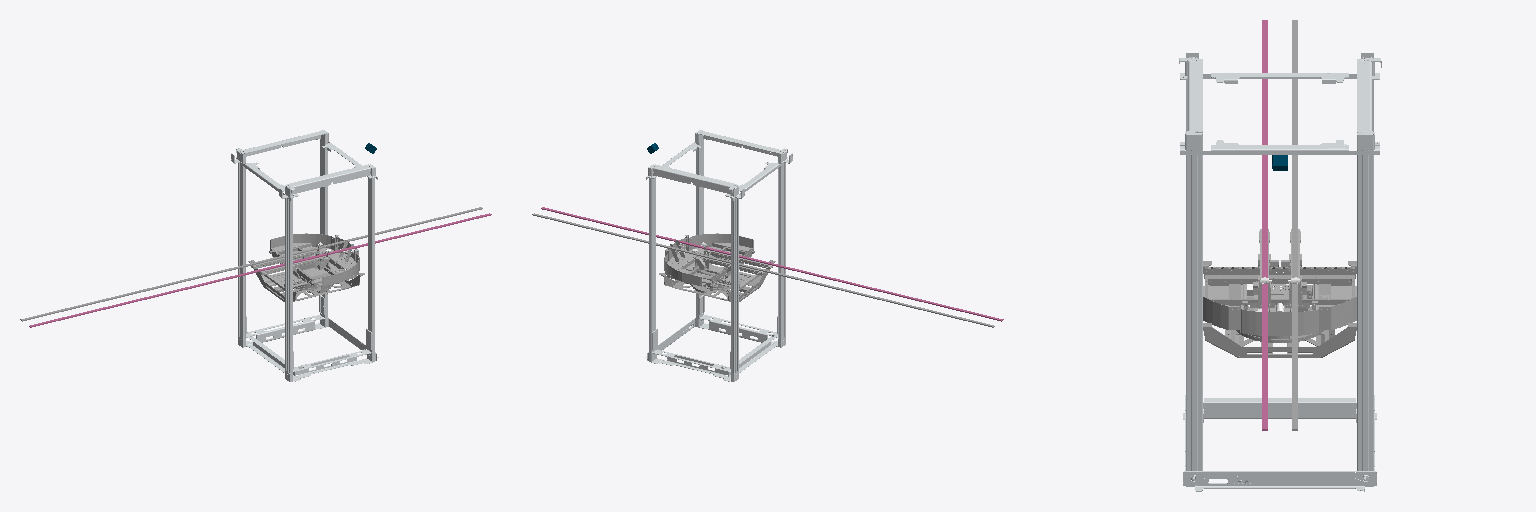
The robot description file, URDF, robot "soto_2_1":
<robot name="soto_2_1">
	<link name="base_footprint"/>
	<joint name="base_to_manipulator_base" type="fixed">
		<origin rpy="0 0 0" xyz="0.33418 0 0.0" />
		<parent link="base_footprint" />
		<child link="manipulator_base_link" />
	</joint>
	<link name="manipulator_base_link">
		<inertial>
		<origin rpy="0 0 0" xyz="0.0083951 0.00056472 0.83616" />
		<mass value="133" />
		<inertia ixx="233.82" ixy="1.4667" ixz="-2.4067" iyy="235.13" iyz="-1.5083" izz="48.653" />
		</inertial>
		<visual>
		<geometry>
			<mesh filename="package://soto_vertical_axis_2_1_description/meshes/manipulator_base_link.STL" />
		</geometry>
		<material name="">
			<color rgba="0.89804 0.91765 0.92941 1" />
		</material>
		</visual>
		<!-- <collision>
		<geometry>
			<mesh filename="package://soto_vertical_axis_2_1_description/meshes/manipulator_base_link_col.STL" />
		</geometry>
		</collision> -->
	</link>
	<link name="vertical_axis_link">
		<inertial>
		<origin rpy="0 0 0" xyz="-0.017005 -0.012942 0.048502" />
		<mass value="36.13" />
		<inertia ixx="1.196522" ixy="0.120705" ixz="-0.048934" iyy="1.700861" iyz="-0.036322" izz="2.566171" />
		</inertial>
		<visual>
		<geometry>
			<mesh filename="package://soto_vertical_axis_2_1_description/meshes/vertical_axis_link.STL" />
		</geometry>
		<material name="">
			<color rgba="0.69804 0.69804 0.69804 1" />
		</material>
		</visual>
		<collision>
		<geometry>
			<mesh filename="package://soto_vertical_axis_2_1_description/meshes/vertical_axis_link_col.STL" />
		</geometry>
		</collision>
	</link>
	<joint name="vertical_axis" type="prismatic">
		<origin rpy="0 0 0" xyz="0 0 -0.47283" />
		<parent link="manipulator_base_link" />
		<child link="vertical_axis_link" />
		<axis xyz="0 0 1" />
		<dynamics damping="4000.0" friction="0.0" />
		<limit effort="1650.32" lower="0.385" upper="1.91" velocity="0.45" />
	</joint>
	<link name="nav_depth_camera_front_link">
		<inertial>
		<origin rpy="0 0 0" xyz="-0.025274 0.00013854 -0.023398" />
		<mass value="1.0" />
		<inertia ixx="0.00081667" ixy="0" ixz="0" iyy="0.00094167" iyz="0" izz="0.00094167" />
		</inertial>
		<visual>
		<geometry>
			<mesh filename="package://soto_vertical_axis_2_1_description/meshes/nav_depth_camera_front_link.STL" />
		</geometry>
		<material name="">
			<color rgba="0 0.292 0.403 1" />
		</material>
		</visual>
		<collision>
		<origin rpy="0 0 0" xyz="0.0125 -0.01475 -0.035" />
		<geometry>
			<box size="0.08 0.07 0.07" />
		</geometry>
		</collision>
	</link>
	<joint name="nav_depth_camera_front" type="fixed">
		<origin rpy="-2.3213 0.0 -1.5708" xyz="0.70999 0.0135 1.92162" />
		<parent link="manipulator_base_link" />
		<child link="nav_depth_camera_front_link" />
	</joint>
	<link name="blue_spot_front_link" />
	<joint name="blue_spot_front" type="fixed">
		<origin rpy="0 2.3213 0" xyz="0.70999 0.117 1.92162" />
		<parent link="manipulator_base_link" />
		<child link="blue_spot_front_link" />
	</joint>
	<link name="gripper_base_link">
		<inertial>
		<origin rpy="0 0 0" xyz="0 -0.003906 0.071229" />
		<mass value="22.11" />
		<inertia ixx="1.434512" ixy="0.01329" ixz="-0.275856" iyy="1.610174" iyz="-0.0066" izz="2.705717" />
		</inertial>
		<visual>
		<geometry>
			<mesh filename="package://soto_conveyor_gripper_1_2_description/meshes/gripper_base_link.STL" />
		</geometry>
		<material name="">
			<color rgba="0.75294 0.75294 0.75294 1" />
		</material>
		</visual>
		<collision>
		<geometry>
			<mesh filename="package://soto_conveyor_gripper_1_2_description/meshes/gripper_base_link_col.STL" />
		</geometry>
		</collision>
	</link>
	<joint name="gripper_rotate" type="fixed">
		<origin rpy="0 0 3.1416" xyz="0 0 0.1205" />
		<parent link="vertical_axis_link" />
		<child link="gripper_base_link" />
		
	</joint>
	<link name="gripper_base_x_link">
		<inertial>
		<origin rpy="0 0 0" xyz="-0.10693 -0.020943 0.010393" />
		<mass value="8.27" />
		<inertia ixx="0.439749" ixy="0.029672" ixz="-0.0008" iyy="0.203588" iyz="0.00403" izz="0.632283" />
		</inertial>
		<visual>
		<geometry>
			<mesh filename="package://soto_conveyor_gripper_1_2_description/meshes/gripper_base_x_link.STL" />
		</geometry>
		<material name="">
			<color rgba="0.69804 0.69804 0.69804 1" />
		</material>
		</visual>
		<collision>
		<geometry>
			<mesh filename="package://soto_conveyor_gripper_1_2_description/meshes/gripper_base_x_link_col.STL" />
		</geometry>
		</collision>
	</link>
	<joint name="gripper_base_x" type="prismatic">
		<origin rpy="0 0 0" xyz="0 0 0.08655" />
		<parent link="gripper_base_link" />
		<child link="gripper_base_x_link" />
		<axis xyz="1 0 0" />
		<dynamics damping="200.0" friction="10.0" />
		<limit effort="140.16" lower="0.002" upper="0.328" velocity="0.145711" />
	</joint>
	<link name="gripper_y_right_link">
		<inertial>
		<origin rpy="0 0 0" xyz="0.31885 0.0033569 -0.031557" />
		<mass value="4.7" />
		<inertia ixx="0.017352" ixy="-0.011281" ixz="-0.039727" iyy="0.535979" iyz="0.000597" izz="0.530221" />
		</inertial>
		<visual>
		<geometry>
			<mesh filename="package://soto_conveyor_gripper_1_2_description/meshes/gripper_y_right_link_with_belt.STL" />
		</geometry>
		<material name="">
			<color rgba="0.75294 0.75294 0.75294 1" />
		</material>
		</visual>
		<!-- <collision>
		<geometry>
			<mesh filename="package://soto_conveyor_gripper_1_2_description/meshes/gripper_y_right_link_with_belt_col.STL" />
		</geometry>
		</collision> -->
	</link>
	<joint name="gripper_y_right" type="prismatic">
		<origin rpy="0 0 0" xyz="-0.337 -0.325 0.12155" />
		<parent link="gripper_base_x_link" />
		<child link="gripper_y_right_link" />
		<axis xyz="0 1 0" />
		<dynamics damping="300.0" friction="80.0" />
		<limit effort="140.16" lower="0.002" upper="0.489" velocity="0.261799" />
	</joint>
	<link name="distance_sensor_conveyor_right">
		<inertial>
		<origin rpy="0 0 0" xyz="-0.026935 0 -0.00089453" />
		<mass value="0.035209" />
		<inertia ixx="7.5071E-06" ixy="-4.8531E-10" ixz="-1.4593E-07" iyy="1.0074E-05" iyz="6.5654E-10" izz="5.2155E-06" />
		</inertial>
		<visual>
		<geometry>
			<mesh filename="package://soto_conveyor_gripper_1_2_description/meshes/distance_sensor.STL" />
		</geometry>
		<material name="">
			<color rgba="1 1 1 1" />
		</material>
		</visual>
		<collision>
		<origin rpy="0 0 0" xyz="-0.029073 0 0" />
		<geometry>
			<box size="0.0308 0.0225 0.049" />
		</geometry>
		</collision>
	</link>
	<joint name="gripper_y_right_to_distance_sensor" type="fixed">
		<origin rpy="1.5708 0 0" xyz="0.00723 0 0.0425" />
		<parent link="gripper_y_right_link" />
		<child link="distance_sensor_conveyor_right" />
	</joint>
	<link name="gripper_y_left_link">
		<inertial>
		<origin rpy="0 0 0" xyz="0.31885 -0.0033569 -0.031557" />
		<mass value="4.7" />
		<inertia ixx="0.017352" ixy="0.011281" ixz="-0.039727" iyy="0.535979" iyz="-0.000597" izz="0.530221" />
		</inertial>
		<visual>
		<geometry>
			<mesh filename="package://soto_conveyor_gripper_1_2_description/meshes/gripper_y_left_link_with_belt.STL" />
		</geometry>
		<material name="">
			<color rgba="0.75294 0.75294 0.75294 1" />
		</material>
		</visual>
		<!-- <collision>
		<geometry>
			<mesh filename="package://soto_conveyor_gripper_1_2_description/meshes/gripper_y_left_link_with_belt_col.STL" />
		</geometry>
		</collision> -->
	</link>
	<joint name="gripper_y_left" type="prismatic">
		<origin rpy="0 0 0" xyz="-0.337 0.325 0.12155" />
		<parent link="gripper_base_x_link" />
		<child link="gripper_y_left_link" />
		<axis xyz="0 -1 0" />
		<dynamics damping="300.0" friction="80.0" />
		<limit effort="140.16" lower="0.002" upper="0.489" velocity="0.261799" />
	</joint>
	<link name="distance_sensor_conveyor_left">
		<inertial>
		<origin rpy="0 0 0" xyz="-0.026935 0 -0.00089453" />
		<mass value="0.035209" />
		<inertia ixx="7.5071E-06" ixy="-4.8531E-10" ixz="-1.4593E-07" iyy="1.0074E-05" iyz="6.5654E-10" izz="5.2155E-06" />
		</inertial>
		<visual>
		<geometry>
			<mesh filename="package://soto_conveyor_gripper_1_2_description/meshes/distance_sensor.STL" />
		</geometry>
		<material name="">
			<color rgba="1 1 1 1" />
		</material>
		</visual>
		<collision>
		<origin rpy="0 0 0" xyz="-0.029073 0 0" />
		<geometry>
			<box size="0.0308 0.0225 0.049" />
		</geometry>
		</collision>
	</link>
	<joint name="gripper_y_left_to_distance_sensor" type="fixed">
		<origin rpy="-1.5708 0 0" xyz="0.00723 0 0.0425" />
		<parent link="gripper_y_left_link" />
		<child link="distance_sensor_conveyor_left" />
	</joint>
	<link name="conveyor_belt_right_link">
		
		<inertial>
		<origin xyz="0 0 0" />
		<mass value="0.5" />
		<inertia ixx="0.0008333333333333335" ixy="0" ixz="0" iyy="0.0008333333333333335" iyz="0" izz="0.0008333333333333335" />
		</inertial>
	</link>
	<joint name="conveyor_belt_right" type="prismatic">
		<origin rpy="0 0 0" xyz="0.68001 0 -0.0182" />
		<parent link="gripper_y_right_link" />
		<child link="conveyor_belt_right_link" />
		<axis xyz="-1 0 0" />
		<limit effort="55.4465" lower="-9999999999" upper="9999999999" velocity="0.247126" />
	</joint>
	<link name="conveyor_belt_right_surface_foremost_link">
		
		<inertial>
		<origin xyz="0 0 0" />
		<mass value="0.01" />
		<inertia ixx="1.666666666666667e-05" ixy="0" ixz="0" iyy="1.666666666666667e-05" iyz="0" izz="1.666666666666667e-05" />
		</inertial>
	</link>
	<joint name="conveyor_belt_right_to_surface_foremost" type="fixed">
		<origin rpy="0 0 0" xyz="0.7050115 0 0" />
		<parent link="gripper_y_right_link" />
		<child link="conveyor_belt_right_surface_foremost_link" />
	</joint>
	<link name="conveyor_belt_right_foremost_link" />
	<joint name="conveyor_belt_right_surface_to_foremost" type="fixed">
		<origin rpy="0 0 0" xyz="0.0182 0 0" />
		<parent link="conveyor_belt_right_surface_foremost_link" />
		<child link="conveyor_belt_right_foremost_link" />
	</joint>
	<link name="conveyor_belt_left_link">
		
		<inertial>
		<origin xyz="0 0 0" />
		<mass value="0.5" />
		<inertia ixx="0.0008333333333333335" ixy="0" ixz="0" iyy="0.0008333333333333335" iyz="0" izz="0.0008333333333333335" />
		</inertial>
	</link>
	<joint name="conveyor_belt_left" type="prismatic">
		<origin rpy="0 0 0" xyz="0.68001 0 -0.0182" />
		<parent link="gripper_y_left_link" />
		<child link="conveyor_belt_left_link" />
		<axis xyz="-1 0 0" />
		<limit effort="55.4465" lower="-9999999999" upper="9999999999" velocity="0.247126" />
	</joint>
	<link name="conveyor_belt_left_surface_foremost_link">
		
		<inertial>
		<origin xyz="0 0 0" />
		<mass value="0.01" />
		<inertia ixx="1.666666666666667e-05" ixy="0" ixz="0" iyy="1.666666666666667e-05" iyz="0" izz="1.666666666666667e-05" />
		</inertial>
	</link>
	<joint name="conveyor_belt_left_to_surface_foremost" type="fixed">
		<origin rpy="0 0 0" xyz="0.7050115 0 0" />
		<parent link="gripper_y_left_link" />
		<child link="conveyor_belt_left_surface_foremost_link" />
	</joint>
	<link name="conveyor_belt_left_foremost_link" />
	<joint name="conveyor_belt_left_surface_to_foremost" type="fixed">
		<origin rpy="0 0 0" xyz="0.0182 0 0" />
		<parent link="conveyor_belt_left_surface_foremost_link" />
		<child link="conveyor_belt_left_foremost_link" />
	</joint>
	<link name="gripper_barcode_camera">
		<inertial>
		<origin rpy="0 0 0" xyz="-0.399914 0 0.166337" />
		<mass value="0.3" />
		<inertia ixx="0.008384" ixy="0" ixz="-0.01991" iyy="0.056698" iyz="0" izz="0.048367" />
		</inertial>
		<visual>
		<geometry>
			<mesh filename="package://soto_conveyor_gripper_1_2_description/meshes/gripper_barcode_camera.STL" />
		</geometry>
		<material name="">
			<color rgba="1 1 1 1" />
		</material>
		</visual>
	</link>
	<joint name="gripper_barcode_camera" type="fixed">
		<origin rpy="-1.309 0.0 -1.5708" xyz="-0.4078 0.0 0.16419" />
		<parent link="gripper_base_link" />
		<child link="gripper_barcode_camera" />
	</joint>
	<link name="reflective_sensor_gripper">
		<inertial>
		<origin rpy="0 0 0" xyz="-0.010172 6.0056E-07 0.00078646" />
		<mass value="0.02" />
		<inertia ixx="1.0016E-06" ixy="-7.2534E-12" ixz="1.4276E-09" iyy="1.1697E-06" iyz="1.4704E-10" izz="4.3881E-07" />
		</inertial>
		<visual>
		<geometry>
			<mesh filename="package://soto_conveyor_gripper_1_2_description/meshes/reflective_sensor.STL" />
		</geometry>
		<material name="">
			<color rgba="1 1 1 1" />
		</material>
		</visual>
		<collision>
		<origin rpy="0 0 0" xyz="-0.01 0 0.0015" />
		<geometry>
			<box size="0.02 0.0136 0.032" />
		</geometry>
		</collision>
	</link>
	<joint name="gripper_base_to_reflective_sensor" type="fixed">
		<origin rpy="1.5708 0 -0.058124" xyz="-0.44819 0.096981 0.16975" />
		<parent link="gripper_base_link" />
		<child link="reflective_sensor_gripper" />
	</joint>
	<link name="distance_sensor_gripper">
		<inertial>
		<origin rpy="0 0 0" xyz="-0.026935 0 -0.00089453" />
		<mass value="0.035209" />
		<inertia ixx="7.5071E-06" ixy="-4.8531E-10" ixz="-1.4593E-07" iyy="1.0074E-05" iyz="6.5654E-10" izz="5.2155E-06" />
		</inertial>
		<visual>
		<geometry>
			<mesh filename="package://soto_conveyor_gripper_1_2_description/meshes/distance_sensor.STL" />
		</geometry>
		<material name="">
			<color rgba="1 1 1 1" />
		</material>
		</visual>
		<collision>
		<origin rpy="0 0 0" xyz="-0.029073 0 0" />
		<geometry>
			<box size="0.0308 0.0225 0.049" />
		</geometry>
		</collision>
	</link>
	<joint name="gripper_base_to_distance_sensor" type="fixed">
		<origin rpy="1.5708 0 -0.058124" xyz="-0.42364 0.093946 0.1908" />
		<parent link="gripper_base_link" />
		<child link="distance_sensor_gripper" />
	</joint>
	<link name="gripper_surface_tip_link" />
	<joint name="gripper_base_x_to_surface_tip" type="fixed">
		<origin rpy="0 0 0" xyz="0.3862115 0 0.12155" />
		<parent link="gripper_base_x_link" />
		<child link="gripper_surface_tip_link" />
	</joint>
	<link name="barcode_search_frame" />
	<joint name="barcode_search_joint" type="fixed">
		<origin rpy="0 0 0" xyz="0.1 0 0.1" />
		<parent link="gripper_surface_tip_link" />
		<child link="barcode_search_frame" />
	</joint>

	<link name="left_conveyor_belt">
		<visual>
			<geometry>
				<box size = "5.0 0.03 0.01"/>
			</geometry>
			<material name="black"/>
		</visual>
		<collision>
			<geometry>
				<box size = "5.0 0.03 0.01"/>
			</geometry>
		</collision>
		<inertial>
			<mass value="2"/>
			<inertia ixx="0.00" ixy="0" ixz="0" iyy="00" iyz="0.0" izz="00"/>
		</inertial>
	</link>

	<joint name="conveyor_left_to_belt" type="prismatic">
		<origin xyz="0.0 0.0 0.01"/>
		<parent link="conveyor_belt_left_foremost_link"/>
		<child link="left_conveyor_belt"/>
		<axis xyz="1 0 0"/>
		<limit effort="140" lower="-2.5" upper="2.5" velocity="0.3"/>
	    <dynamics damping="1.0" friction="0.6"/>
	</joint>

	<link name="right_conveyor_belt">
		<visual>
			<geometry>
				<box size = "5.0 0.03 0.01"/>
			</geometry>
			<material name="black"/>
		</visual>
		<collision>
			<geometry>
				<box size = "5.0 0.03 0.01"/>
			</geometry>
		</collision>
		<inertial>
			<mass value="2"/>
			<inertia ixx="0.00" ixy="0" ixz="0" iyy="0" iyz="0.0" izz="00"/>
		</inertial>
	</link>

	<joint name="conveyor_right_to_belt" type="prismatic">
		<origin xyz="0.0 0.0 0.01"/>
		<parent link="conveyor_belt_right_foremost_link"/>
		<child link="right_conveyor_belt"/>
		<axis xyz="1 0 0"/>
		<dynamics damping="1.0" friction="0.6"/>
		<limit effort="140" lower="-2.5" upper="2.5" velocity="0.3"/>
	</joint>

</robot>

--- What the picture shows (computed from the rendered views, not written in the file) ---
The picture shows the robot from 3 angles, left to right: view 1: azimuth 30°, elevation 25°; view 2: azimuth 150°, elevation 25°; view 3: azimuth 270°, elevation 25°; orthographic projection.
Model soto_2_1 with 24 links and 23 joints (8 prismatic, 15 fixed), rooted at base_footprint, posed joints at zero except 4 at the middle of their limits (vertical_axis = 1.15, gripper_base_x = 0.165, gripper_y_right = 0.2455, gripper_y_left = 0.2455).
Visible links, largest first — view 1: manipulator_base_link, gripper_base_link, left_conveyor_belt, right_conveyor_belt, vertical_axis_link; view 2: manipulator_base_link, gripper_base_link, right_conveyor_belt, left_conveyor_belt, vertical_axis_link; view 3: manipulator_base_link, gripper_base_link, gripper_base_x_link, vertical_axis_link, left_conveyor_belt, right_conveyor_belt, gripper_y_right_link, gripper_y_left_link.
Boxes of the visible links, x1,y1,x2,y2 form: manipulator_base_link: (231,130,378,381); gripper_base_link: (264,233,359,289); left_conveyor_belt: (29,213,491,327); right_conveyor_belt: (20,207,482,321); vertical_axis_link: (248,260,364,301); manipulator_base_link: (645,130,792,381); gripper_base_link: (664,233,759,289); right_conveyor_belt: (532,213,994,327); left_conveyor_belt: (541,207,1003,321); vertical_axis_link: (659,254,775,301); manipulator_base_link: (1179,53,1381,491); gripper_base_link: (1203,284,1356,335); gripper_base_x_link: (1205,267,1354,311); vertical_axis_link: (1203,261,1356,357); left_conveyor_belt: (1262,20,1267,430); right_conveyor_belt: (1292,20,1297,430); gripper_y_right_link: (1281,229,1309,307); gripper_y_left_link: (1250,229,1278,307).
Size in the robot's own frame: 5 by 1.05 by 2.01 metres.
Meshes: 10 distinct files referenced, 12 mesh visuals loaded (10 binary STL).
